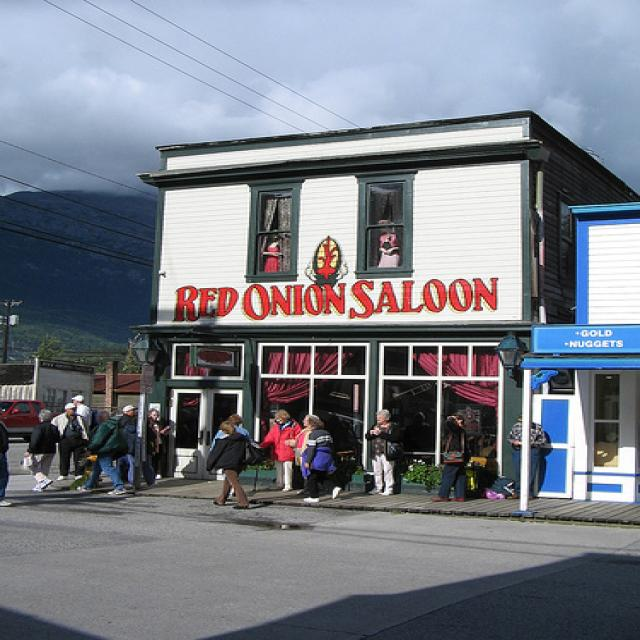light_vehicle: (0, 398, 68, 444)
